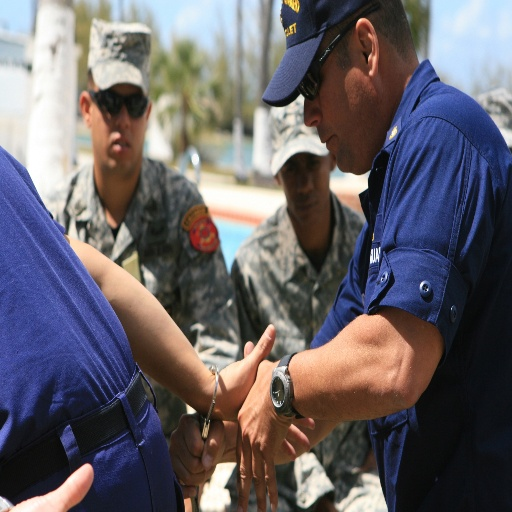hand: (207, 318, 316, 459), (233, 334, 293, 511), (167, 405, 232, 490), (8, 462, 94, 511)
